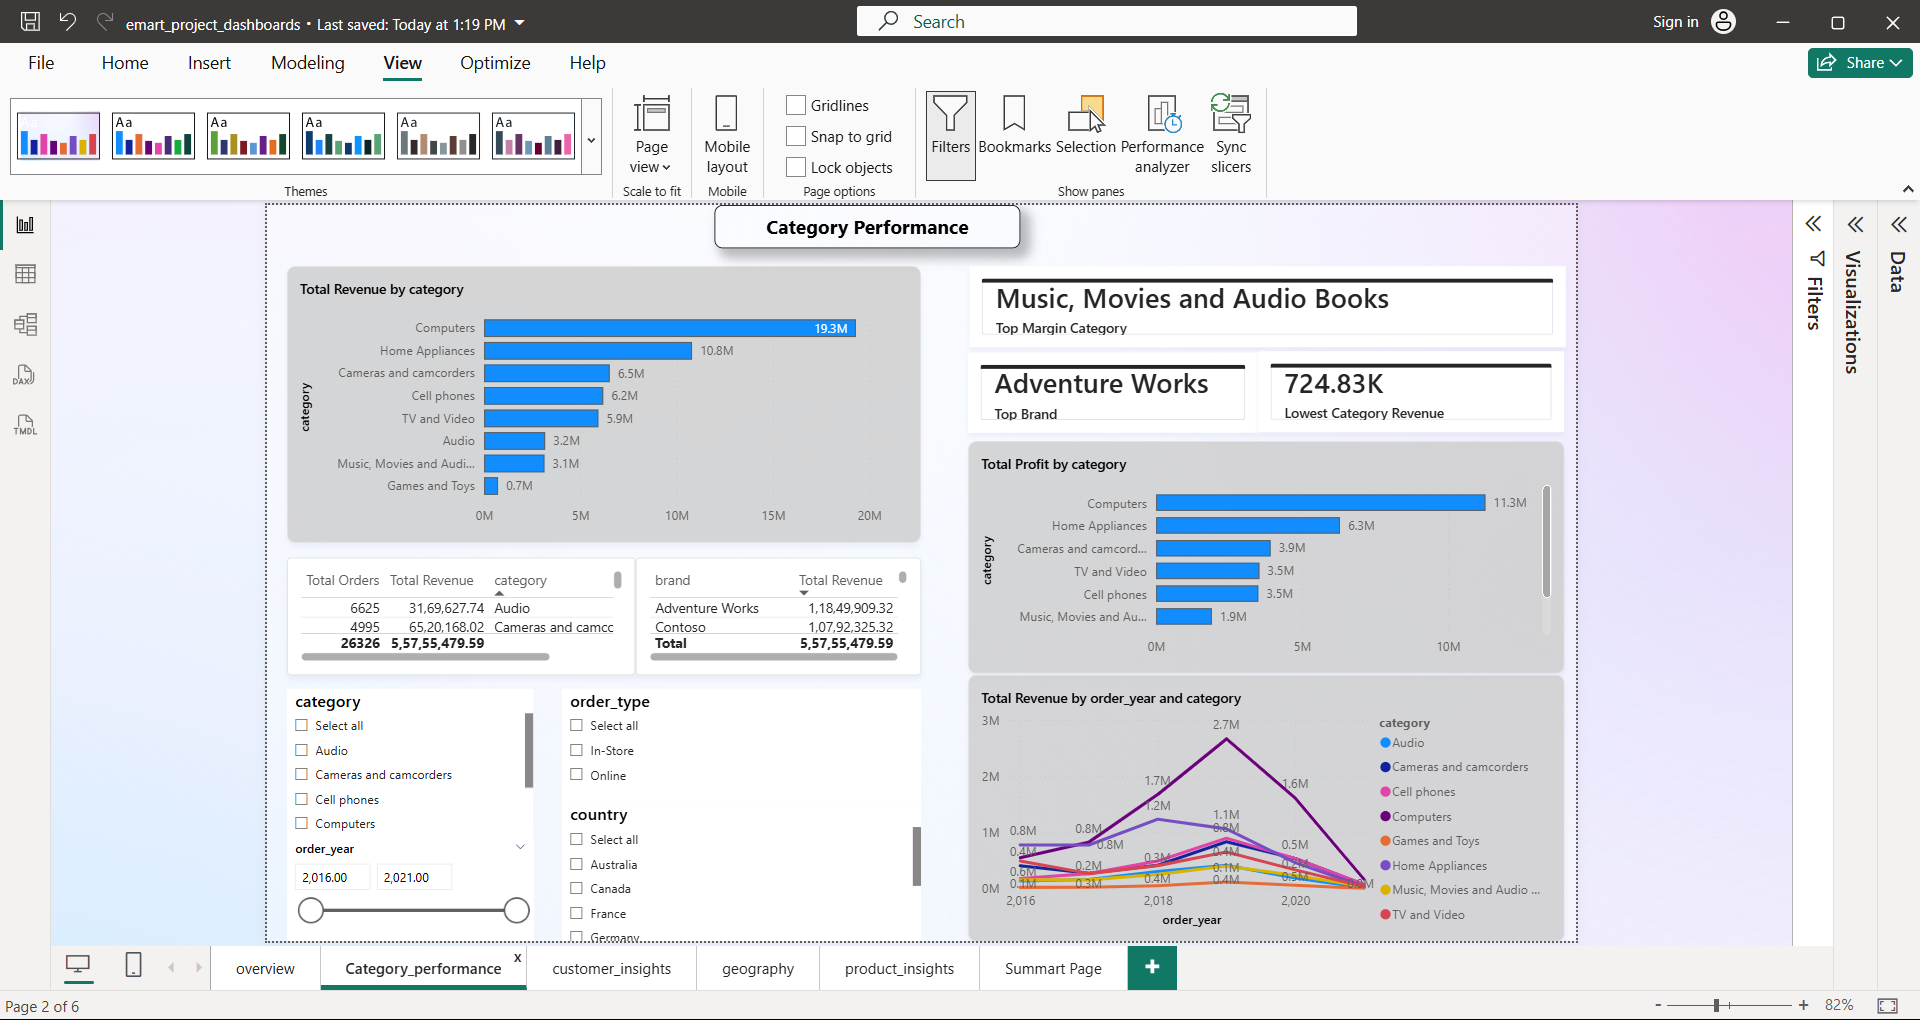

What the dashboard file says about the page in this screenshot:
{"tool":"powerbi","page":{"name":"Category_performance","canvas":[1280,720],"ordinal":1},"visuals":[{"type":"clusteredBarChart","fields":{"Category":["products.category"],"Y":["products.Total Revenue"]},"box":[19.6,59.9,620,270.2],"z":0},{"type":"clusteredBarChart","fields":{"Y":["products.Total Profit"],"Category":["products.category"]},"box":[686,231.1,583.3,227.4],"z":1000},{"type":"tableEx","fields":{"Values":["products.Total Orders","products.Total Revenue","products.category"]},"box":[19.6,344.8,341.2,114.9],"z":2000},{"type":"lineChart","fields":{"Y":["products.Total Revenue"],"Category":["sales.order_year"],"Series":["products.category"]},"box":[686,459.8,583.3,260.5],"z":3000},{"type":"slicer","fields":{"Values":["sales.order_year"]},"box":[19.6,621.2,240.9,99],"z":4000},{"type":"slicer","fields":{"Values":["sales.order_type"]},"box":[288.6,473.2,351,111.3],"z":5000},{"type":"slicer","fields":{"Values":["products.category"]},"box":[19.6,473.2,240.9,149.2],"z":6000},{"type":"slicer","fields":{"Values":["customers.country"]},"box":[288.6,584.5,351,135.7],"z":7000},{"type":"textbox","box":[437.8,0,299.6,42.8],"z":8000},{"type":"tableEx","fields":{"Values":["products.brand","products.Total Revenue"]},"box":[360.7,344.8,278.8,114.9],"z":9000},{"type":"cardVisual","fields":{"Data":["products.Top Margin Category"]},"box":[687.2,59.9,583.3,79.5],"z":10000},{"type":"cardVisual","fields":{"Data":["products.Top Brand"]},"box":[686,144.3,283.7,78.3],"z":11000},{"type":"cardVisual","fields":{"Data":["products.Lowest Category Revenue"]},"box":[969.7,143.1,299.6,79.5],"z":12000}]}

Visuals, with their boxes on the page's 1280x720 design canvas (x1, y1, x2, y2). These are canvas units, not pixel positions in the 1920x1020 screenshot, which may show the page scaled, cropped or inside an application window:
clusteredBarChart - products.category x products.Total Revenue: rect(20, 60, 640, 330)
clusteredBarChart - products.Total Profit x products.category: rect(686, 231, 1269, 458)
tableEx - products.Total Orders x products.Total Revenue: rect(20, 345, 361, 460)
lineChart - products.Total Revenue x sales.order_year: rect(686, 460, 1269, 720)
slicer - sales.order_year: rect(20, 621, 260, 720)
slicer - sales.order_type: rect(289, 473, 640, 584)
slicer - products.category: rect(20, 473, 260, 622)
slicer - customers.country: rect(289, 584, 640, 720)
textbox: rect(438, 0, 737, 43)
tableEx - products.brand x products.Total Revenue: rect(361, 345, 640, 460)
cardVisual - products.Top Margin Category: rect(687, 60, 1270, 139)
cardVisual - products.Top Brand: rect(686, 144, 970, 223)
cardVisual - products.Lowest Category Revenue: rect(970, 143, 1269, 223)
